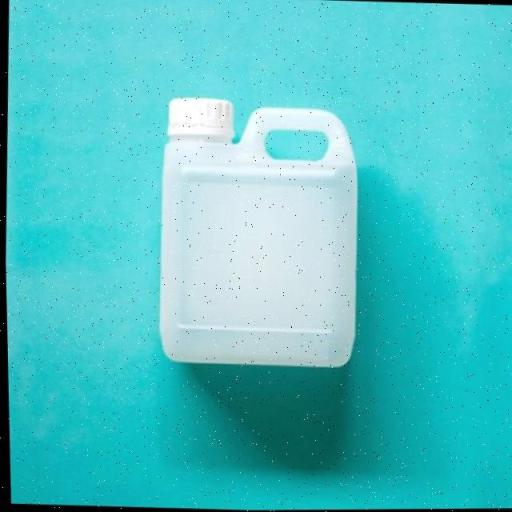plastic: (153, 91, 362, 367)
